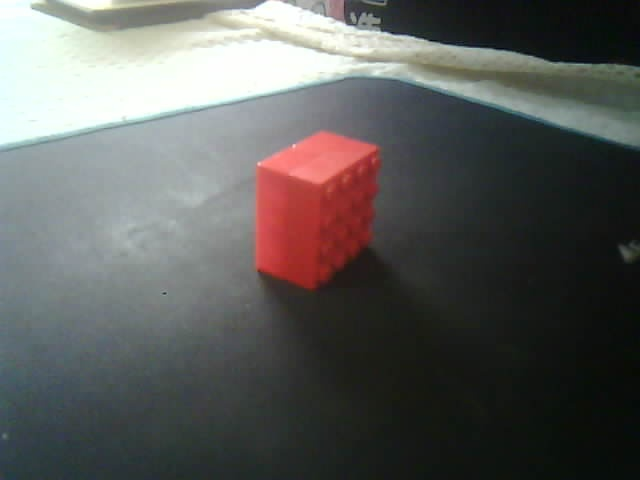lego: (254, 129, 381, 291)
